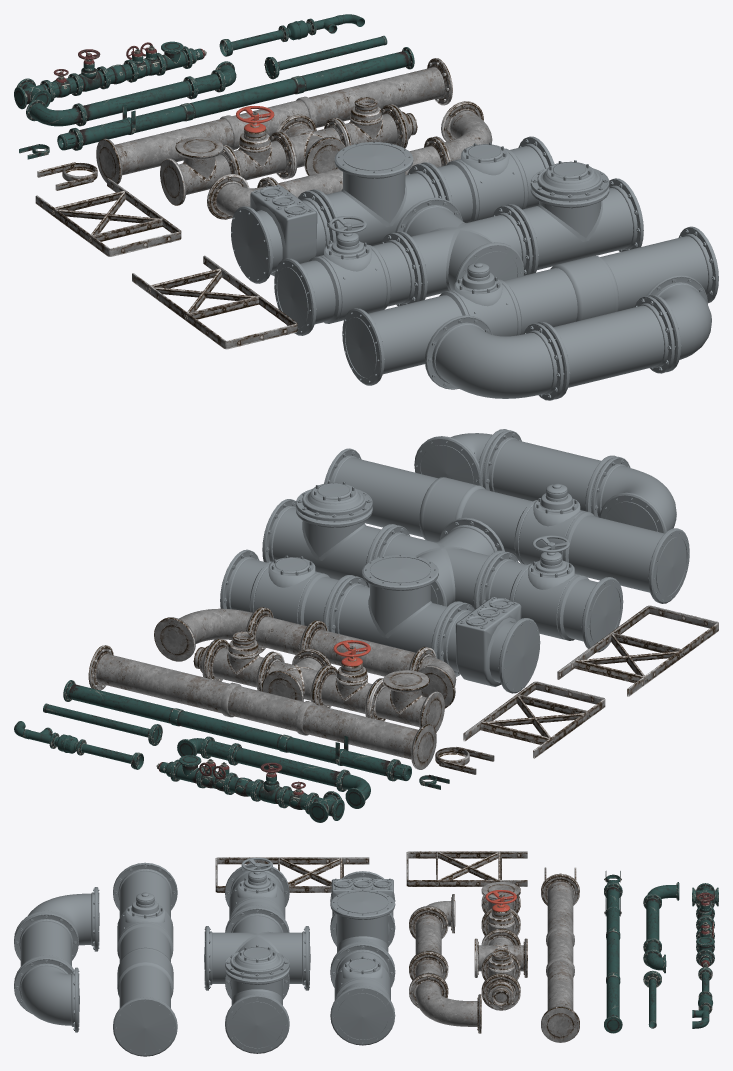
The model's file is pipe_set.fbx.
3 renders of one model, top to bottom at view 1: azimuth 30°, elevation 25°; view 2: azimuth 150°, elevation 25°; view 3: azimuth 270°, elevation 25°, orthographic. The views are drawn at different scales.
Parts seen in each view (by area): view 1: ind_pipe_large_01_long_01_inst_001, ind_pipe_large_01_valve_01_inst_001, ind_pipe_large_01_crossing_03_inst_001, ind_pipe_medium_01_long_inst_001, ind_pipe_large_01_corner_02_inst_001, ind_pipe_large_01_crossing_01_inst_001, ind_pipe_large_01_base_01_inst_001, ind_pipe_large_01_crossing_02_inst_001, ind_pipe_large_01_crossing_05_inst_001, ind_pipe_large_01_crossing_04_inst_001, ind_pipe_small_01_long_inst_001, ind_pipe_large_01_frame_01_inst_001 (+21 smaller); view 2: ind_pipe_large_01_long_01_inst_001, ind_pipe_medium_01_long_inst_001, ind_pipe_large_01_valve_01_inst_001, ind_pipe_large_01_crossing_02_inst_001, ind_pipe_large_01_crossing_03_inst_001, ind_pipe_large_01_crossing_05_inst_001, ind_pipe_large_01_crossing_04_inst_001, ind_pipe_large_01_crossing_01_inst_001, ind_pipe_large_01_base_01_inst_001, ind_pipe_small_01_long_inst_001, ind_pipe_large_01_corner_02_inst_001, ind_pipe_large_01_frame_01_inst_001 (+21 smaller); view 3: ind_pipe_large_01_long_01_inst_001, ind_pipe_large_01_crossing_03_inst_001, ind_pipe_large_01_crossing_04_inst_001, ind_pipe_medium_01_long_inst_001, ind_pipe_large_01_crossing_01_inst_001, ind_pipe_large_01_corner_01_inst_001, ind_pipe_large_01_crossing_02_inst_001, ind_pipe_large_01_valve_01_inst_001, ind_pipe_large_01_base_01_inst_001, ind_pipe_medium_01_frame_01_inst_001, ind_pipe_medium_01_corner_02_inst_001, ind_pipe_large_01_frame_01_inst_001 (+18 smaller).
Part boxes in pixels (x1,y1,x2,y2): ind_pipe_large_01_long_01_inst_001: [342, 226, 718, 385]; ind_pipe_large_01_valve_01_inst_001: [274, 216, 421, 335]; ind_pipe_large_01_crossing_03_inst_001: [506, 160, 643, 273]; ind_pipe_medium_01_long_inst_001: [96, 58, 452, 184]; ind_pipe_large_01_corner_02_inst_001: [424, 315, 563, 400]; ind_pipe_large_01_crossing_01_inst_001: [395, 197, 532, 301]; ind_pipe_large_01_base_01_inst_001: [537, 296, 674, 399]; ind_pipe_large_01_crossing_02_inst_001: [309, 142, 445, 245]; ind_pipe_large_01_crossing_05_inst_001: [231, 185, 336, 283]; ind_pipe_large_01_crossing_04_inst_001: [421, 136, 554, 222]; ind_pipe_small_01_long_inst_001: [71, 47, 414, 149]; ind_pipe_large_01_frame_01_inst_001: [132, 255, 297, 349]; ind_pipe_large_01_long_01_inst_001: [324, 448, 689, 603]; ind_pipe_medium_01_long_inst_001: [88, 645, 436, 769]; ind_pipe_large_01_valve_01_inst_001: [479, 535, 623, 652]; ind_pipe_large_01_crossing_02_inst_001: [328, 555, 462, 658]; ind_pipe_large_01_crossing_03_inst_001: [262, 481, 396, 587]; ind_pipe_large_01_crossing_05_inst_001: [437, 597, 540, 693]; ind_pipe_large_01_crossing_04_inst_001: [220, 549, 354, 631]; ind_pipe_large_01_crossing_01_inst_001: [373, 517, 505, 609]; ind_pipe_large_01_base_01_inst_001: [482, 430, 617, 512]; ind_pipe_small_01_long_inst_001: [63, 680, 399, 780]; ind_pipe_large_01_corner_02_inst_001: [591, 456, 676, 533]; ind_pipe_large_01_frame_01_inst_001: [557, 605, 718, 696]; ind_pipe_large_01_long_01_inst_001: [113, 862, 177, 1056]; ind_pipe_large_01_crossing_03_inst_001: [225, 945, 289, 1053]; ind_pipe_large_01_crossing_04_inst_001: [330, 943, 395, 1045]; ind_pipe_medium_01_long_inst_001: [541, 873, 579, 1042]; ind_pipe_large_01_crossing_01_inst_001: [204, 907, 310, 990]; ind_pipe_large_01_corner_01_inst_001: [14, 957, 79, 1032]; ind_pipe_large_01_crossing_02_inst_001: [330, 889, 395, 971]; ind_pipe_large_01_valve_01_inst_001: [225, 857, 289, 931]; ind_pipe_large_01_base_01_inst_001: [14, 913, 78, 985]; ind_pipe_medium_01_frame_01_inst_001: [406, 851, 527, 886]; ind_pipe_medium_01_corner_02_inst_001: [409, 974, 481, 1033]; ind_pipe_large_01_frame_01_inst_001: [215, 857, 369, 892].
Size of the model in its own units: 7.83 by 1.67 by 13.37.
